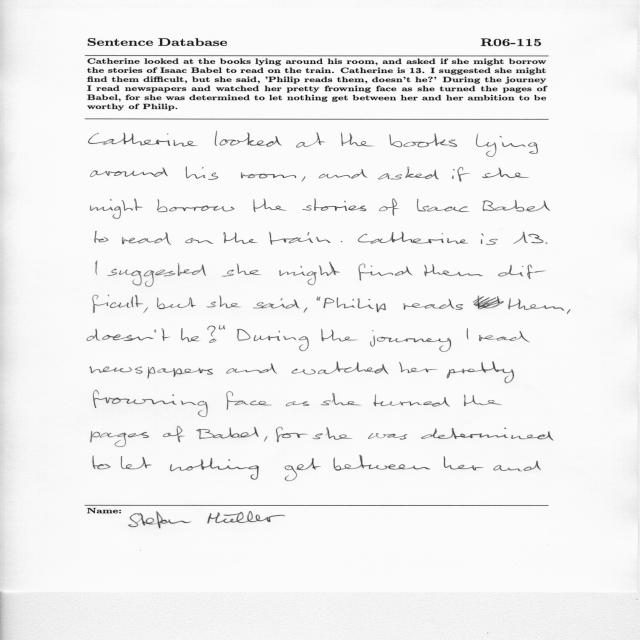word: (94, 390, 208, 417), (108, 263, 207, 287), (170, 458, 259, 480), (370, 330, 451, 352), (421, 428, 554, 441), (90, 366, 213, 379), (333, 455, 430, 471), (89, 133, 198, 147), (447, 362, 514, 383), (279, 262, 340, 285), (473, 296, 565, 311), (476, 135, 538, 157), (358, 232, 468, 244), (291, 362, 389, 375), (254, 331, 309, 351), (87, 328, 170, 341), (215, 131, 282, 147), (91, 199, 143, 219), (157, 199, 234, 212), (374, 394, 450, 407), (390, 134, 458, 148), (323, 298, 386, 313), (91, 431, 149, 447), (359, 264, 413, 281), (93, 295, 143, 313), (227, 391, 272, 410), (284, 458, 321, 481), (269, 232, 331, 245), (378, 167, 439, 180), (303, 199, 367, 211), (196, 427, 259, 439), (483, 200, 550, 211), (424, 264, 483, 276), (91, 168, 168, 177), (417, 199, 470, 212), (498, 265, 546, 279), (403, 299, 463, 310), (122, 232, 171, 245), (479, 331, 530, 342), (226, 363, 277, 374), (444, 456, 484, 470), (222, 263, 261, 277), (482, 167, 529, 178), (313, 427, 352, 440), (320, 393, 361, 405), (319, 169, 368, 179), (493, 461, 541, 471), (253, 299, 300, 309), (276, 427, 307, 442), (296, 132, 325, 148), (341, 133, 374, 147), (321, 329, 358, 341), (207, 296, 241, 309), (253, 199, 286, 212), (157, 298, 196, 309), (223, 232, 258, 244), (464, 395, 502, 406), (186, 167, 218, 180), (399, 362, 436, 373), (121, 456, 151, 469), (513, 232, 543, 244), (163, 427, 185, 443), (379, 199, 399, 216), (241, 173, 296, 179), (207, 325, 225, 343), (368, 433, 407, 440), (452, 167, 470, 182), (181, 328, 200, 342), (93, 456, 111, 470), (481, 233, 498, 245), (185, 238, 214, 244), (95, 231, 108, 243), (237, 329, 250, 340), (286, 401, 309, 406), (466, 328, 469, 339), (143, 307, 148, 313), (96, 261, 98, 275), (302, 176, 306, 182), (304, 307, 308, 313), (317, 296, 321, 301), (264, 436, 267, 442), (567, 309, 570, 314), (546, 242, 548, 244), (341, 241, 342, 242)
